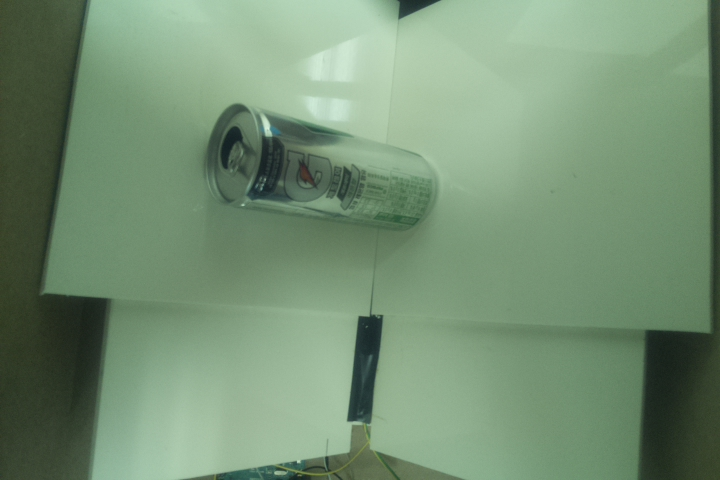can: (203, 101, 442, 234)
